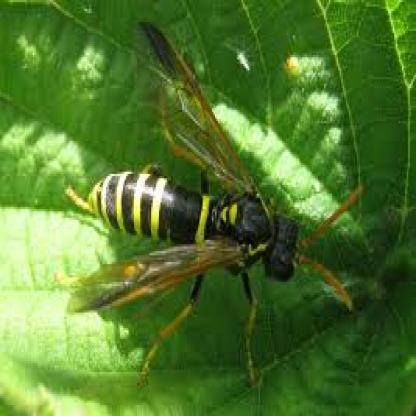sawfly: (60, 15, 365, 393)
